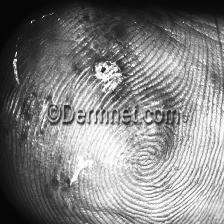Non-Cancerous Skin Condition: (38, 12, 137, 98), (8, 139, 146, 194), (0, 60, 28, 123)
